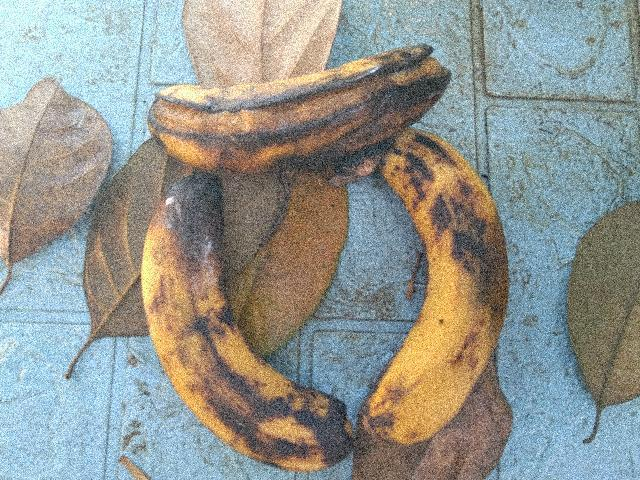overripe: (339, 136, 521, 451)
rotten: (128, 188, 344, 479), (108, 35, 481, 185)
